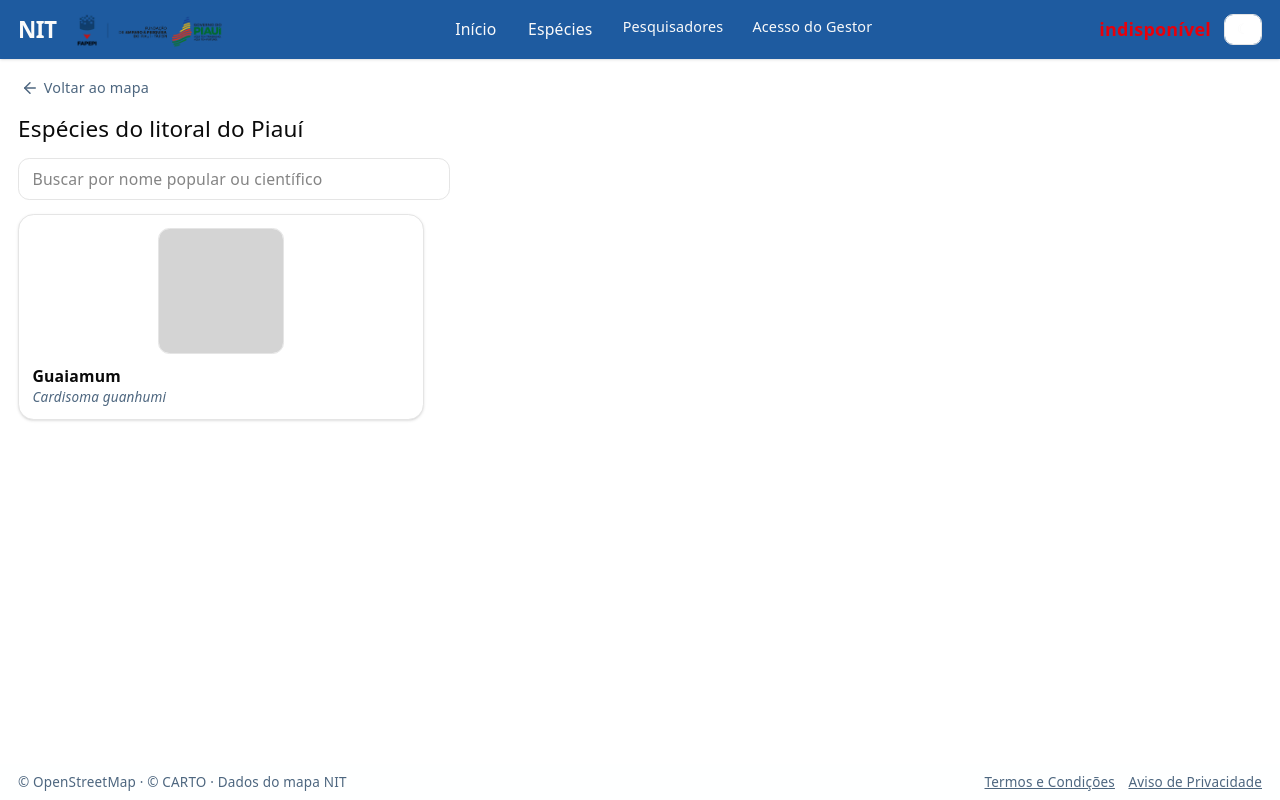
CA-8: espécie sem foto usa o fallback da silhueta › a ficha abre com o fallback e os textos da espécie
Click the link with test id "nav-espécies" at [560, 29], box left=528, top=18, right=592, bottom=40
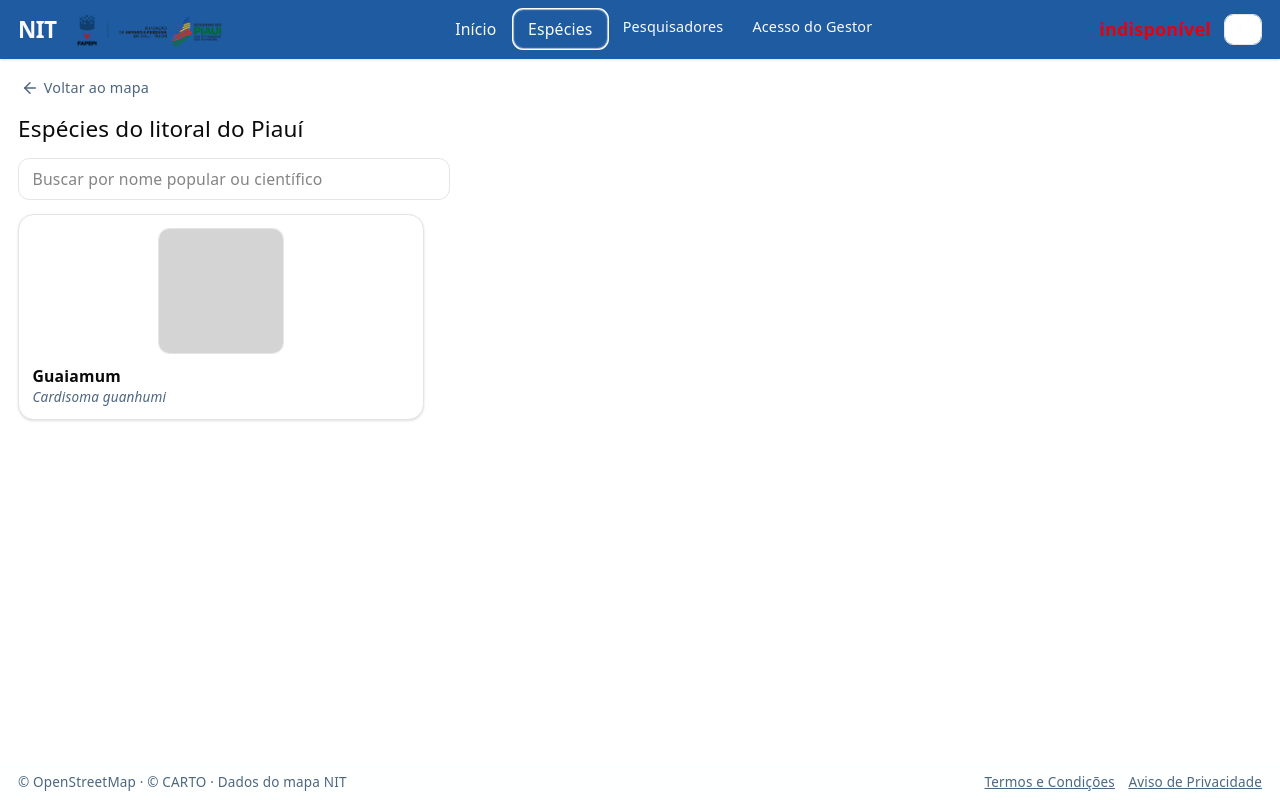
Click the button with test id "card-especie-guaiamum" at [221, 317], box left=18, top=214, right=424, bottom=420
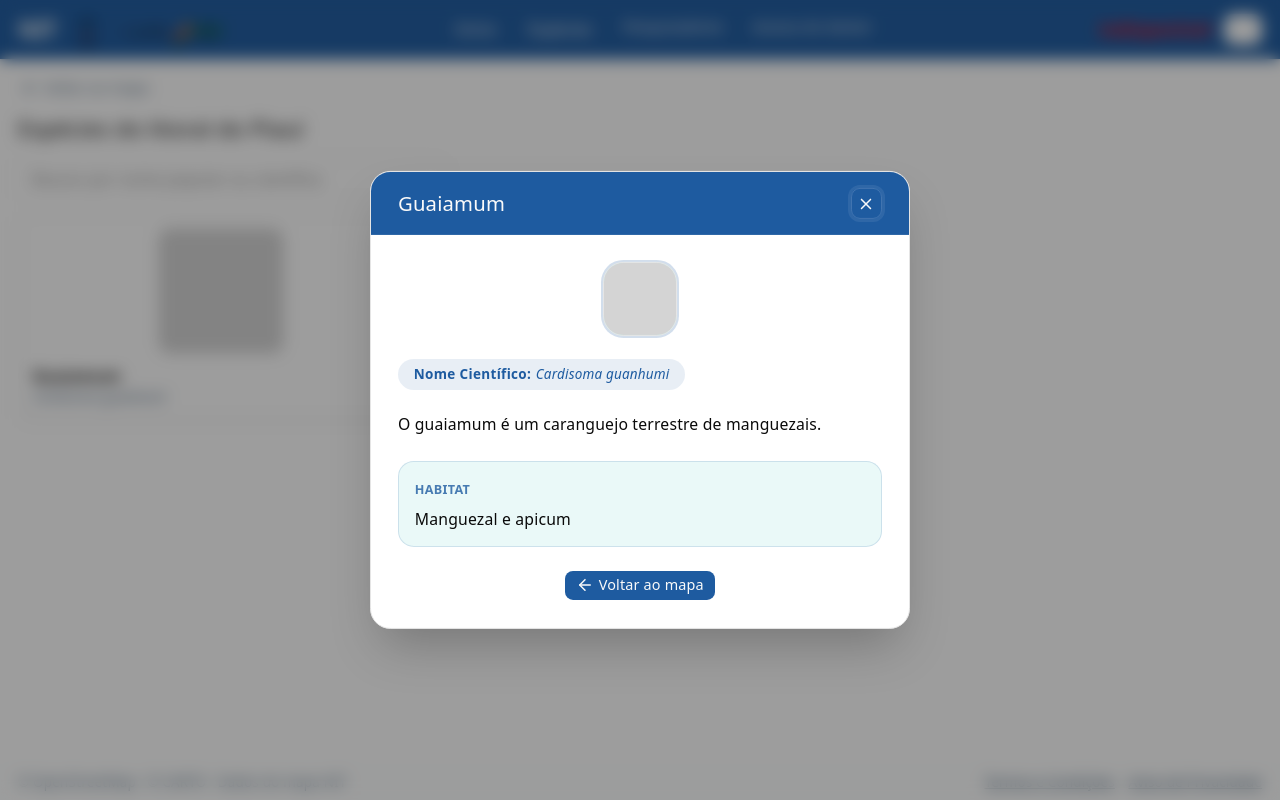
Check: the heading with test id "nome-popular-modal" reads "Guaiamum", box left=398, top=189, right=505, bottom=217
Check: the text with test id "descricao-especie" shows "caranguejo terrestre de manguezais", box left=398, top=413, right=821, bottom=435
